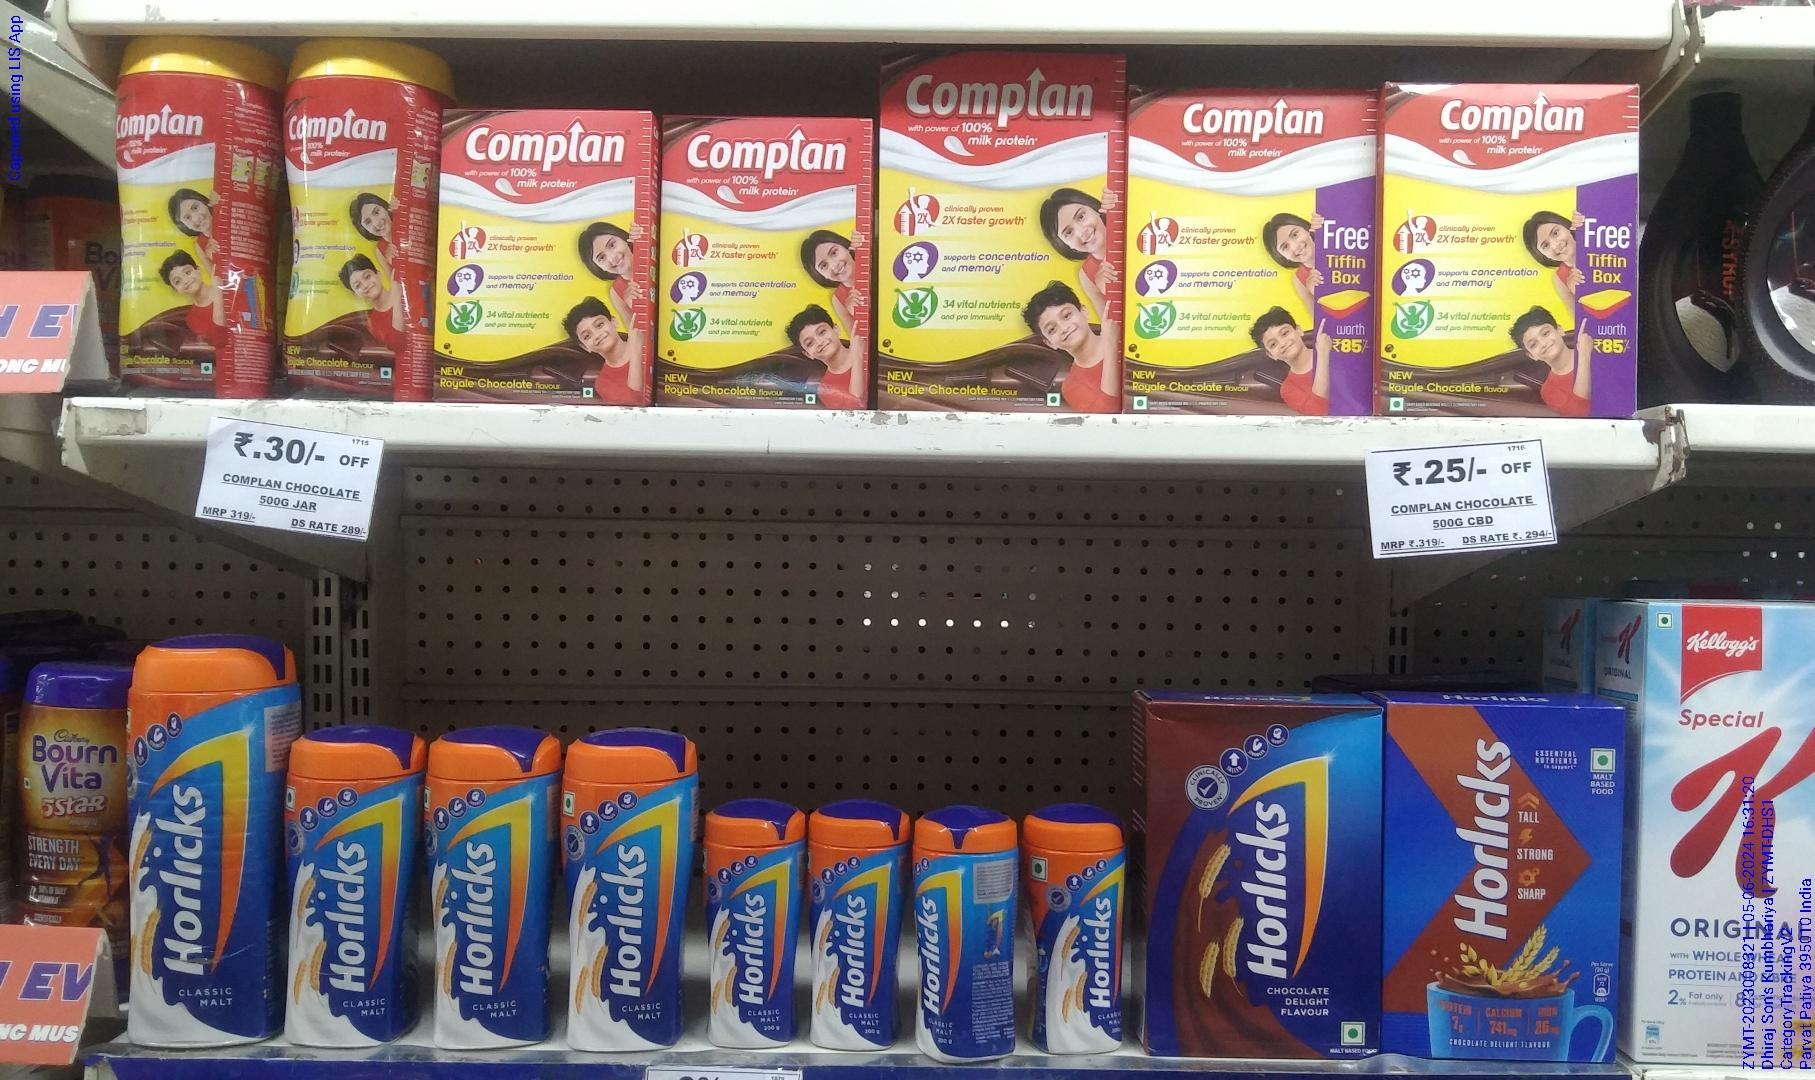BOURN_VITA_FIVE_STAR_MAGIC_500_G_JAR: (15, 667, 122, 922)
COMPLAN_CHOCOLATE_500_GMS_JAR: (114, 27, 264, 392), (280, 40, 428, 400)
HORLICK_CHOCOLATE_500_G_PACK: (1379, 699, 1621, 1057)
HORLICK_CLASSIC_MALT_200_G_JAR: (915, 814, 1014, 1054), (703, 810, 797, 1049), (1023, 810, 1113, 1049), (810, 806, 895, 1053)
HORLICK_CLASSIC_MALT_500_G_JAR: (422, 737, 546, 1050), (280, 739, 397, 1053), (564, 738, 680, 1052)
